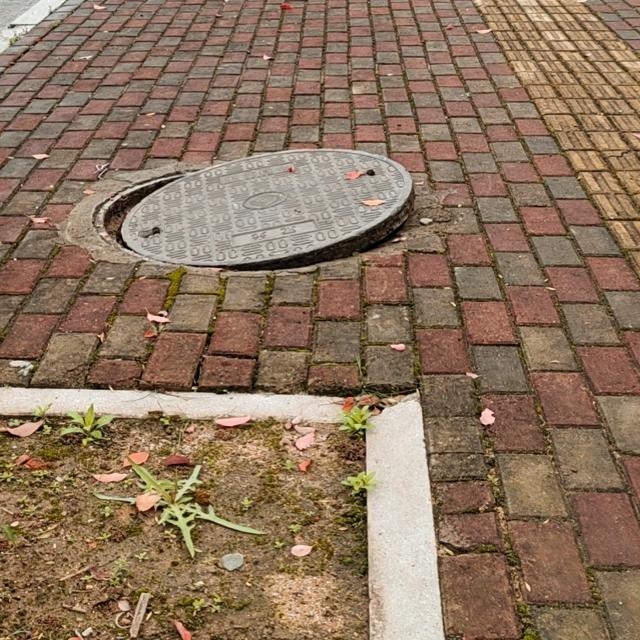uncovered: (63, 149, 421, 276)
